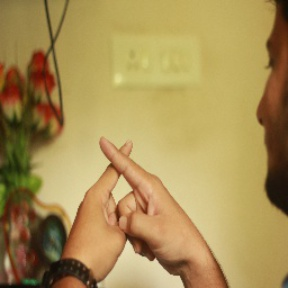X: (73, 120, 174, 227)
